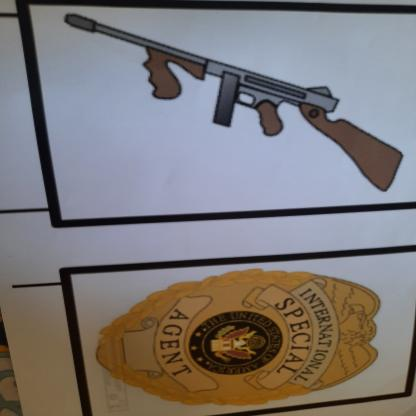Bootlegger: (43, 10, 416, 204)
G-man: (79, 260, 405, 414)
